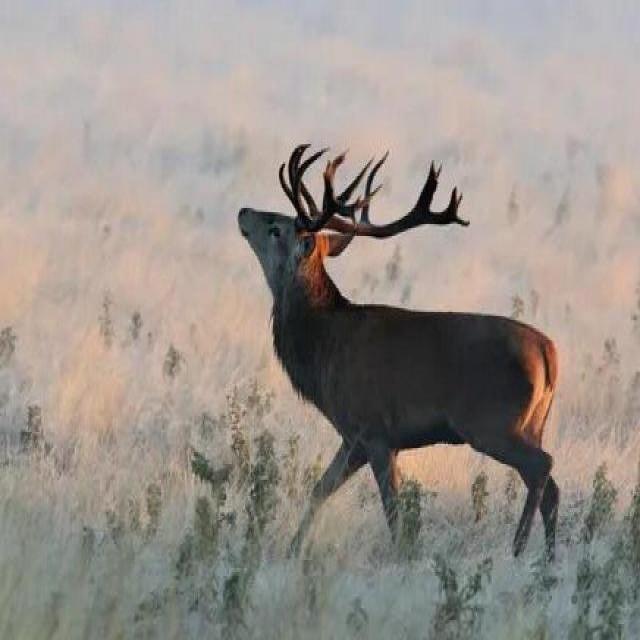deer: (204, 123, 612, 592)
